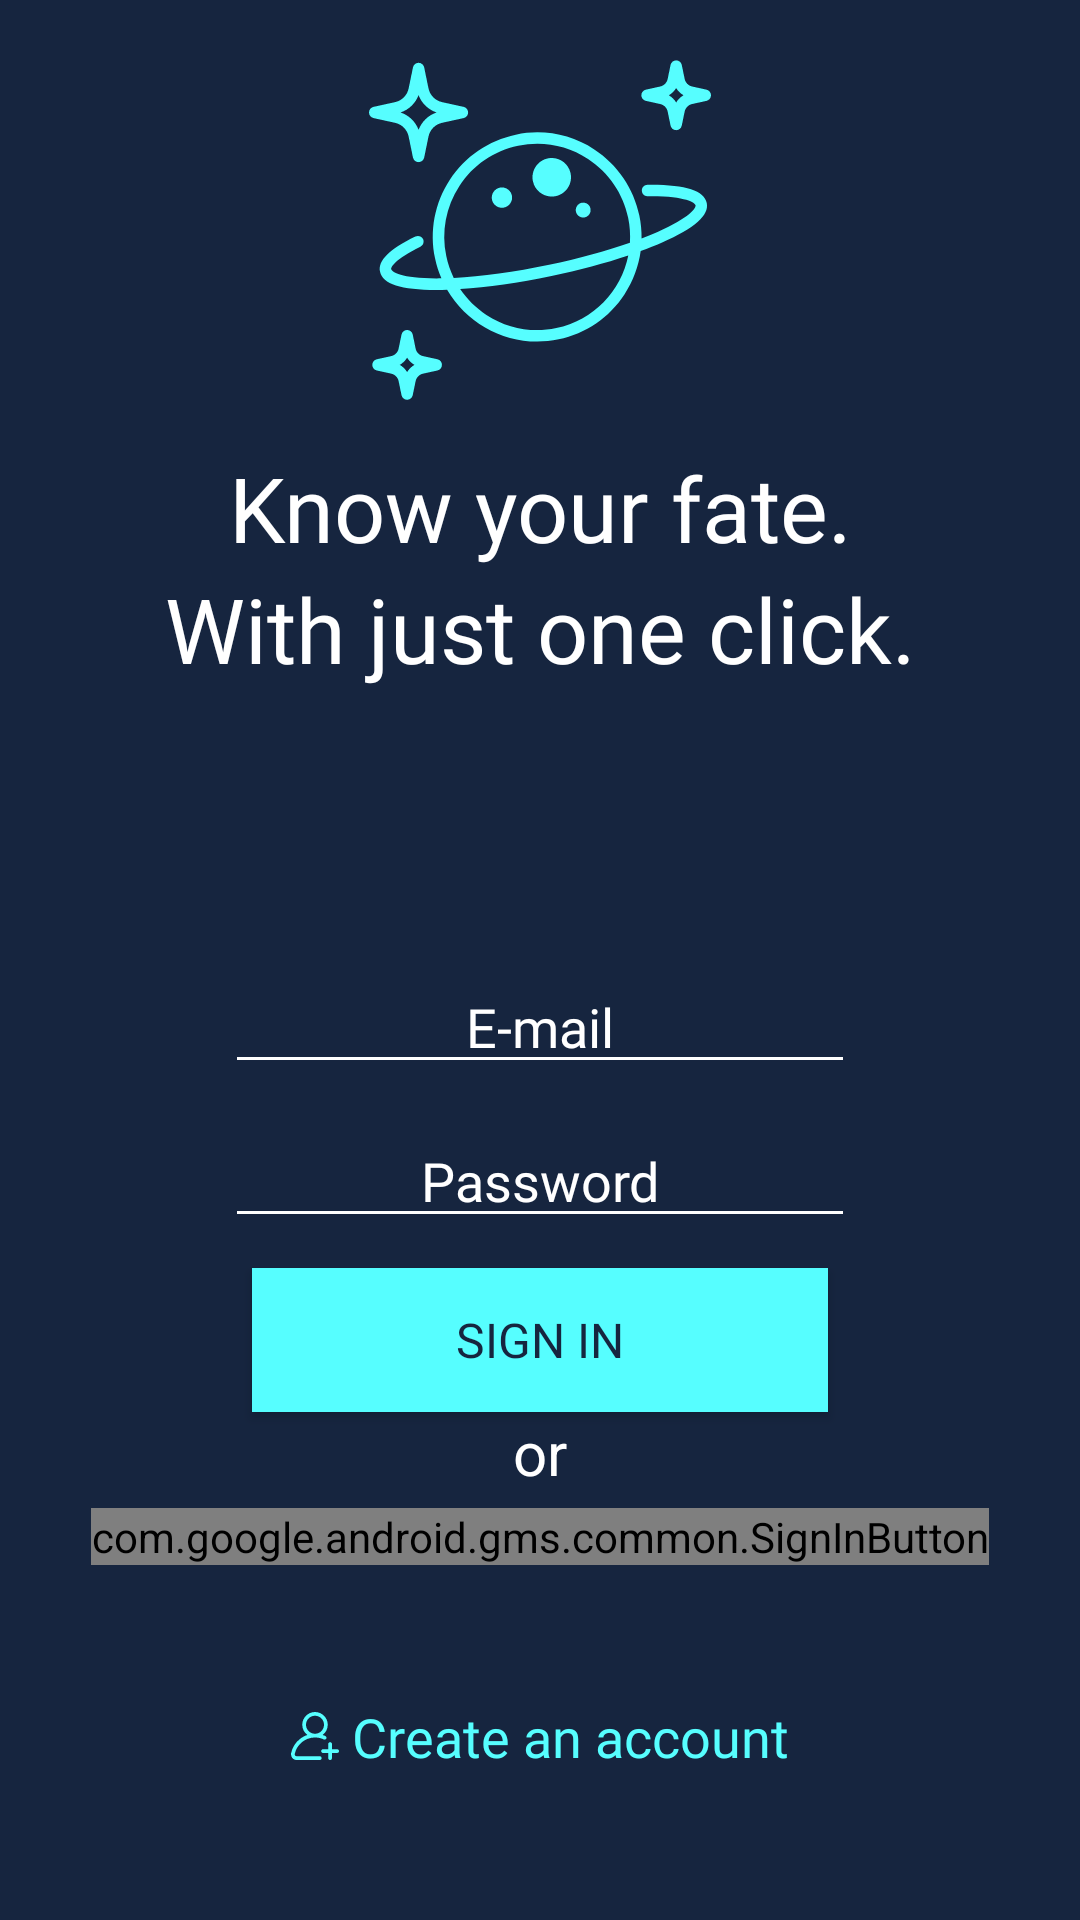

Icon bounding boxes for this 1080 x 1920 phone screenshot, format Rect(x1, y1, x2, y2):
astrology: Rect(369, 60, 711, 400)
